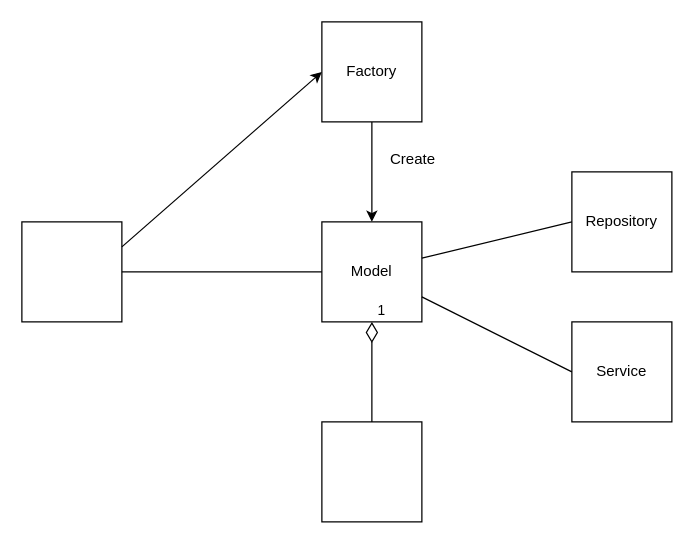
This 694x544 diagram has some shape labels left out. The shapes that lost their labels are listed below. From the top down, each one's centre as x and y in pixels, then its label:
At (x=71, y=271): "Controller".
At (x=371, y=471): "Entity".
